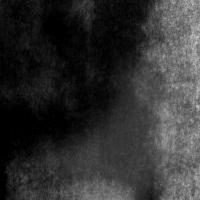patches: (36, 54, 186, 200), (0, 0, 123, 149), (41, 70, 163, 189), (92, 1, 148, 79), (1, 91, 47, 168), (33, 7, 84, 75)
